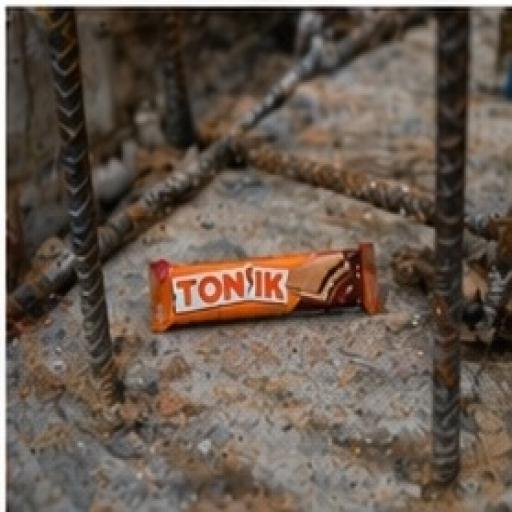tonik: (90, 204, 408, 406)
